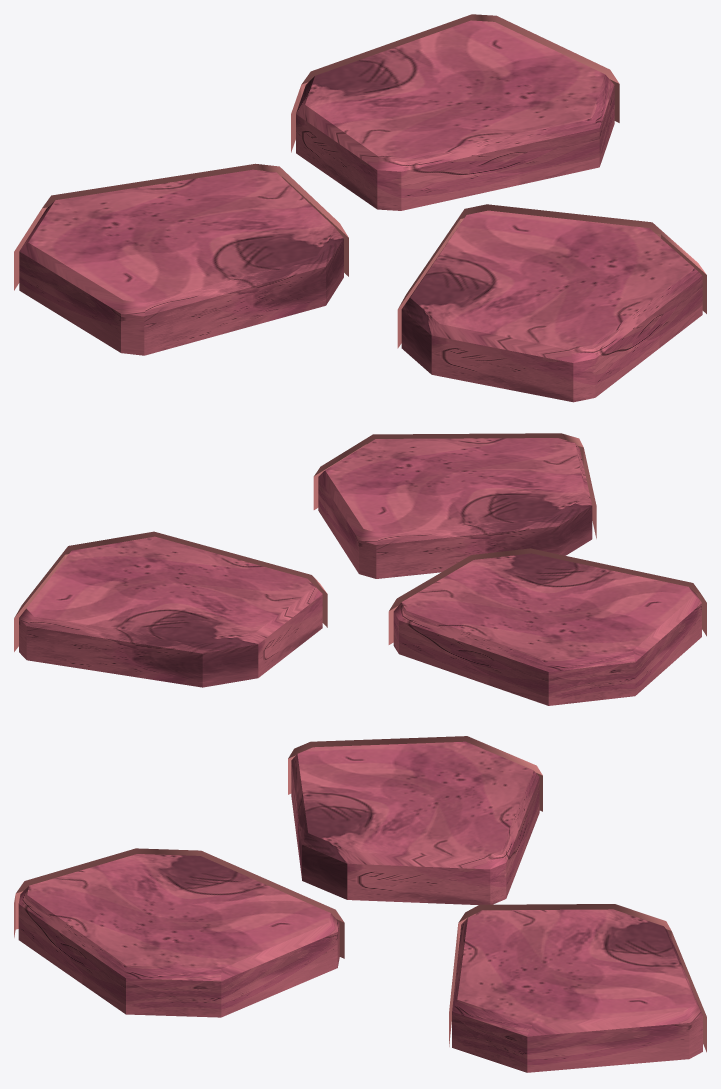
File: entity443758.gltf
3 views of the same model, one above another, from view 1: azimuth 30°, elevation 25°; view 2: azimuth 150°, elevation 25°; view 3: azimuth 270°, elevation 25° (orthographic). The views are drawn at different scales.
Parts seen in each view (by area): view 1: node_mesh_rocks_path_01; view 2: node_mesh_rocks_path_01; view 3: node_mesh_rocks_path_01.
Boxes of the visible parts, bbox=[...] form: node_mesh_rocks_path_01: bbox=[14, 14, 706, 402]; node_mesh_rocks_path_01: bbox=[14, 433, 706, 705]; node_mesh_rocks_path_01: bbox=[14, 736, 706, 1072].
Bounding box in the file's own units: 188 × 17.29 × 193.
